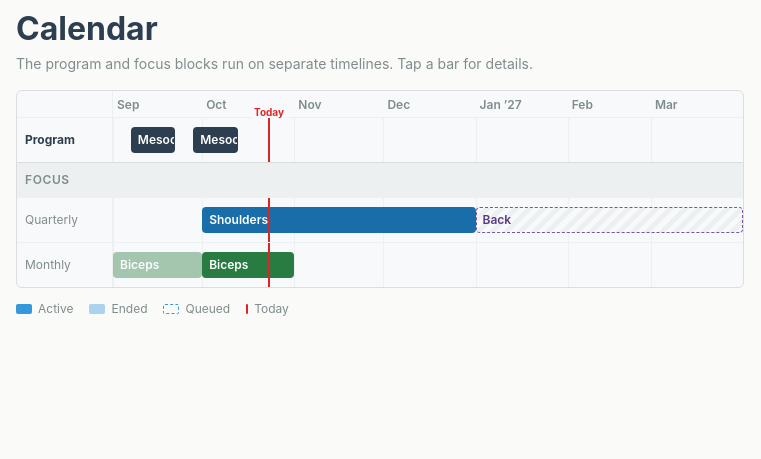
FocusCalendar › logs and reports a summary that fails to load
The width and height of the screenshot is (761, 459).
Click the button with aria-label "Biceps focus block, September 2026": (158, 265) [113,252,202,278]
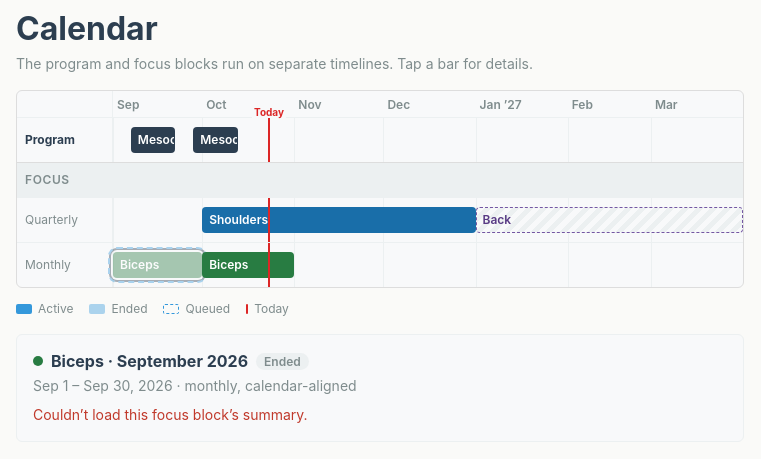
Now the message reads "Couldn’t load this focus block’s summary.", box [33,406,308,423]
